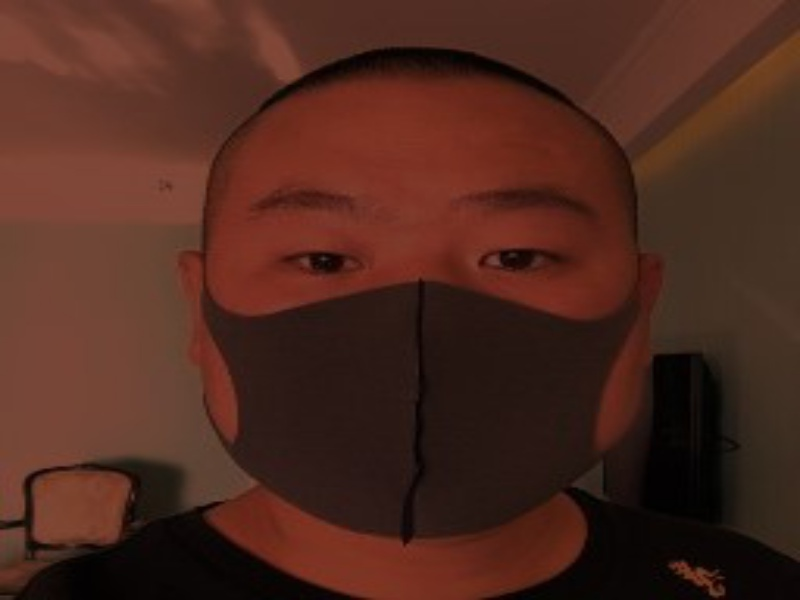ManaoArotava: (182, 49, 673, 562)
